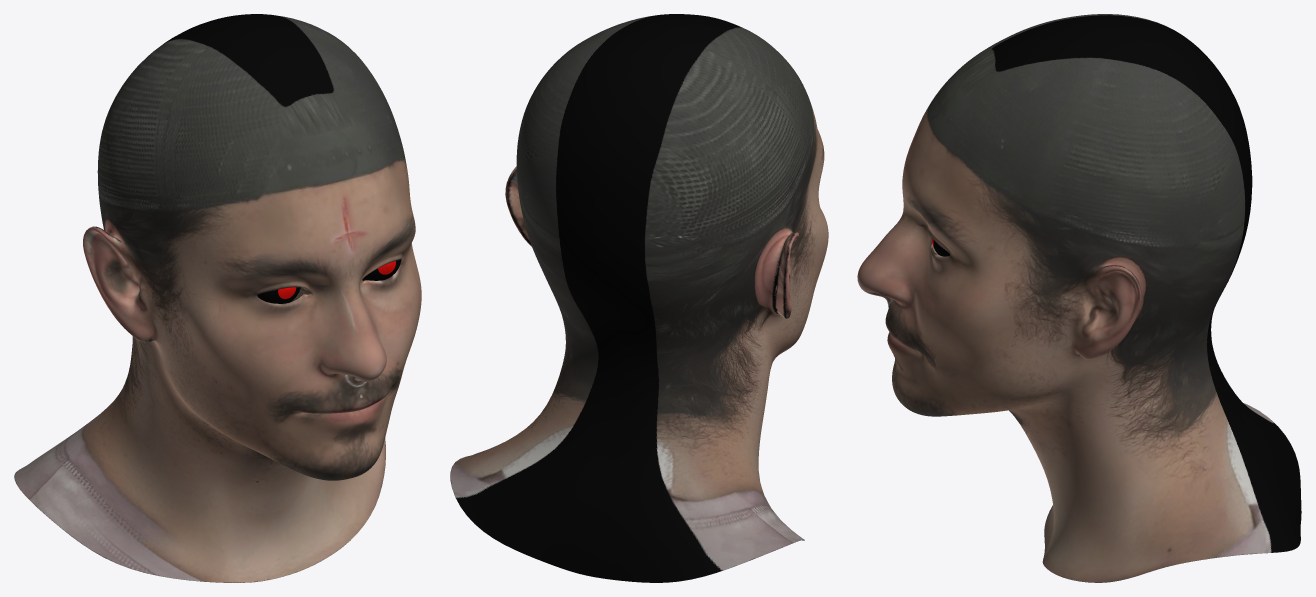
3 views of the same model, side by side, from view 1: azimuth 30°, elevation 25°; view 2: azimuth 150°, elevation 25°; view 3: azimuth 270°, elevation 25° (orthographic). The views are drawn at different scales.
Visible parts, largest first — view 1: FBHead.003; view 2: FBHead.003; view 3: FBHead.003.
Boxes of the visible parts, box(x1,y1,x2,y2) form: FBHead.003: box(14, 14, 421, 582); FBHead.003: box(450, 14, 828, 582); FBHead.003: box(857, 14, 1301, 582).
Size of the model in its own units: 0.8707 by 1.27 by 0.9729.
3 materials, 1 textured.
